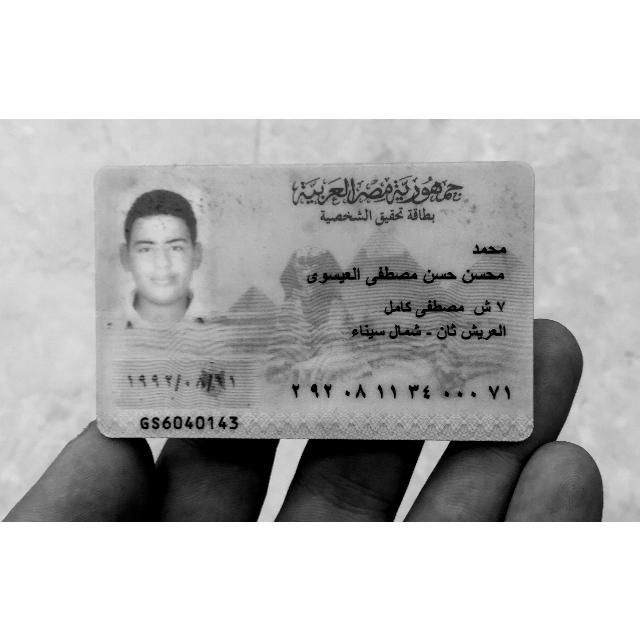front: (95, 161, 534, 440)
